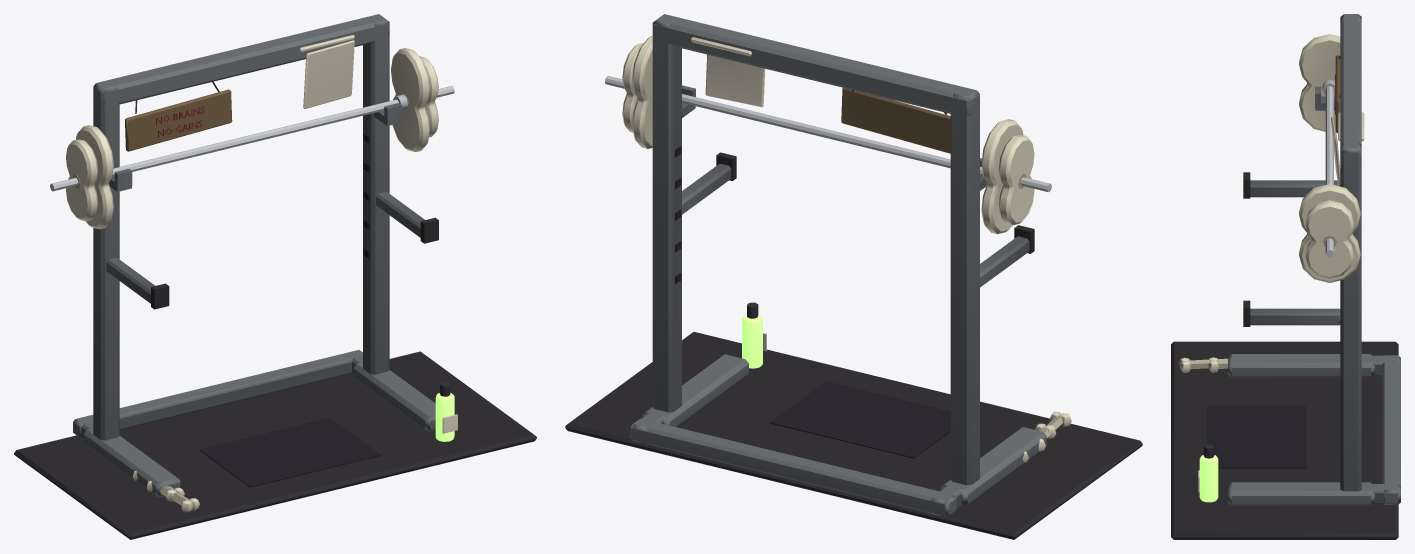
Rendered from gym_limb.glb.
3 views of the same model, side by side, from view 1: azimuth 30°, elevation 25°; view 2: azimuth 150°, elevation 25°; view 3: azimuth 270°, elevation 25° (orthographic). The views are drawn at different scales.
Parts seen in each view (by area): view 1: gym_limb; view 2: gym_limb; view 3: gym_limb.
Part boxes in pixels (x1,y1,x2,y2): gym_limb: (14, 14, 536, 539); gym_limb: (565, 14, 1142, 539); gym_limb: (1171, 14, 1400, 539).
Bounding box in the file's own units: 1.94 × 1.69 × 0.97.
